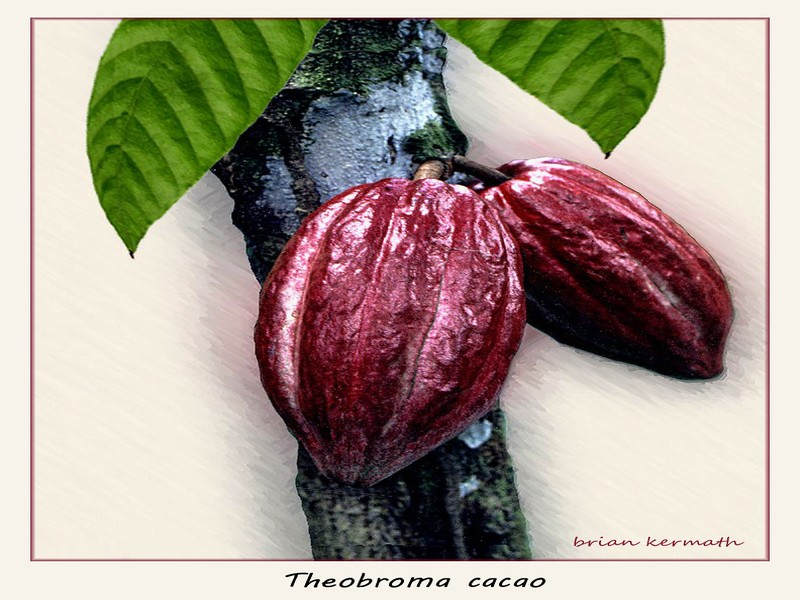Cacaopod: (259, 179, 519, 487)
